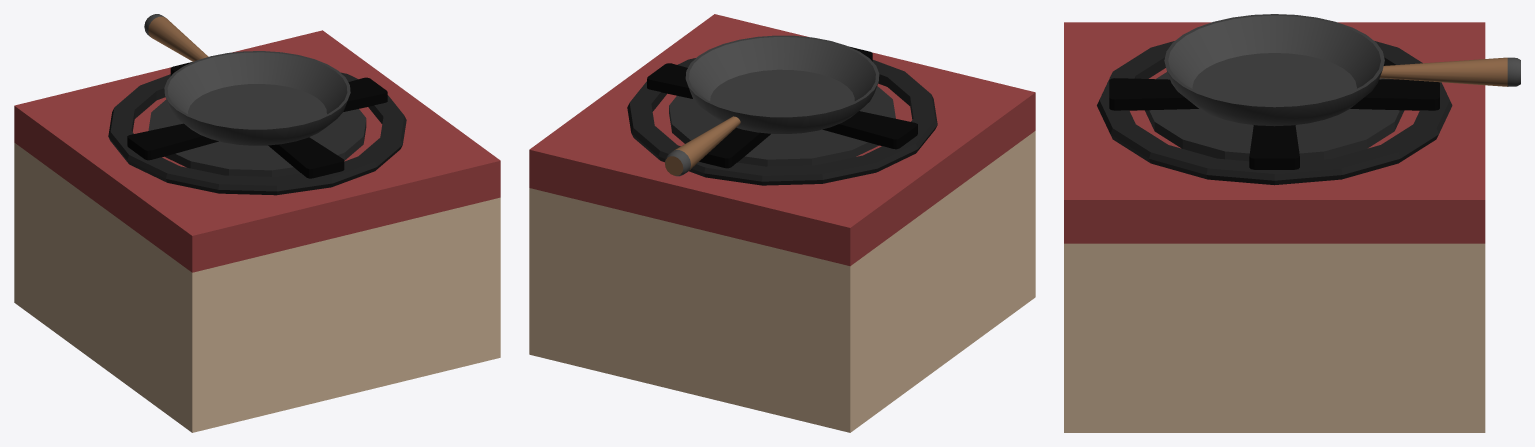
The model's file is PanTable.fbx.
3 views of the same model, side by side, from view 1: azimuth 30°, elevation 25°; view 2: azimuth 150°, elevation 25°; view 3: azimuth 270°, elevation 25° (orthographic). The views are drawn at different scales.
Visible parts, largest first — view 1: CookingTable, Pan; view 2: CookingTable, Pan; view 3: CookingTable, Pan.
Boxes of the visible parts, <box> form: CookingTable: <box>14,30,500,432</box>; Pan: <box>144,14,350,145</box>; CookingTable: <box>529,14,1035,432</box>; Pan: <box>665,35,879,176</box>; CookingTable: <box>1064,22,1485,432</box>; Pan: <box>1164,14,1520,126</box>.
Size of the model in its own units: 89.71 by 67.03 by 97.31.
